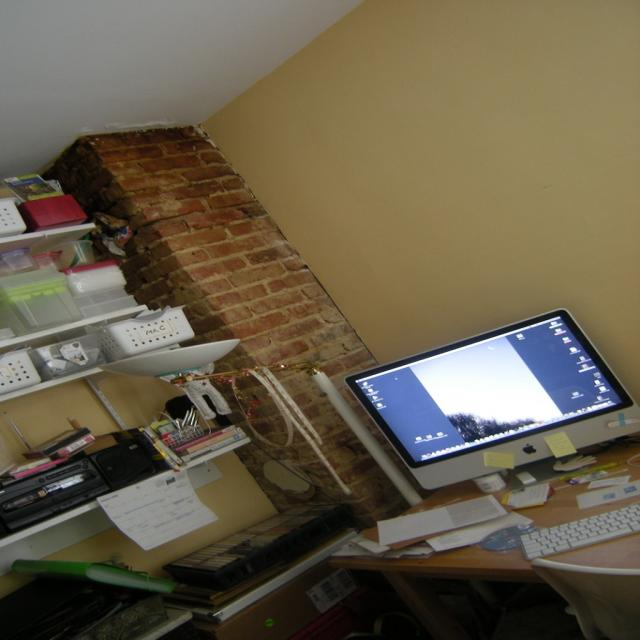chair: (528, 531, 639, 640)
desk: (324, 452, 639, 640)
keyboard: (517, 500, 639, 560)
mouse: (480, 525, 531, 552)
tv: (343, 308, 638, 494)
